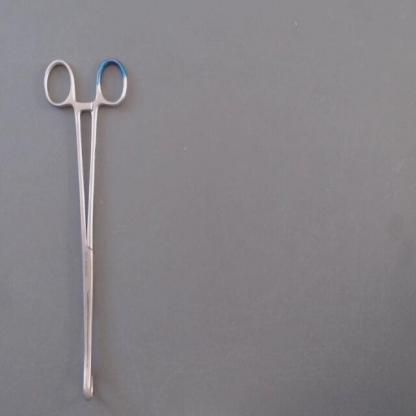Sponge Forceps: (36, 47, 135, 411)
